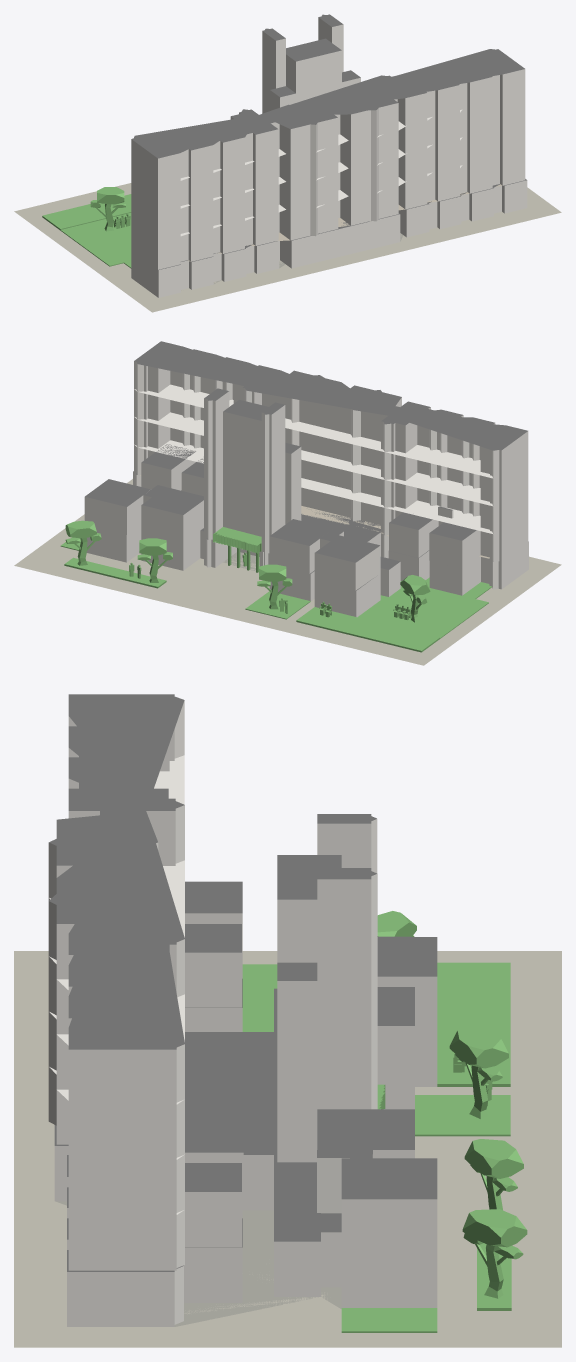
Rendered from wissal_rami_v4.glb.
3 views of the same model, one above another, from view 1: azimuth 30°, elevation 25°; view 2: azimuth 150°, elevation 25°; view 3: azimuth 270°, elevation 25° (orthographic). The views are drawn at different scales.
Visible parts, largest first — view 1: ExteriorWall, Roof, Ground, Shade, Ceiling; view 2: ExteriorWall, Roof, Ground, Shade, Ceiling, InteriorFloor; view 3: ExteriorWall, Roof, Ground, Shade, UndergroundSlab, Ceiling.
Part boxes in pixels (<box>): ExteriorWall: <box>131,17,527,297</box>; Roof: <box>132,14,526,269</box>; Ground: <box>14,183,561,312</box>; Shade: <box>42,187,131,268</box>; Ceiling: <box>180,109,462,236</box>; ExteriorWall: <box>84,361,528,617</box>; Roof: <box>85,341,528,590</box>; Ground: <box>14,479,561,665</box>; Shade: <box>60,520,492,652</box>; Ceiling: <box>134,384,492,533</box>; InteriorFloor: <box>140,475,489,558</box>; ExteriorWall: <box>48,700,437,1326</box>; Roof: <box>49,694,437,1271</box>; Ground: <box>14,951,561,1347</box>; Shade: <box>242,911,527,1332</box>; UndergroundSlab: <box>55,1201,341,1326</box>; Ceiling: <box>49,755,184,1214</box>.
Size of the model in its own units: 53.95 by 21 by 31.51.
